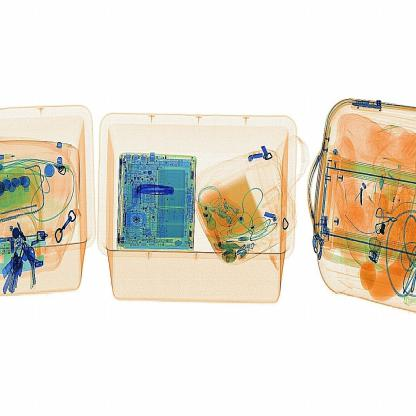knife: (127, 175, 184, 217)
